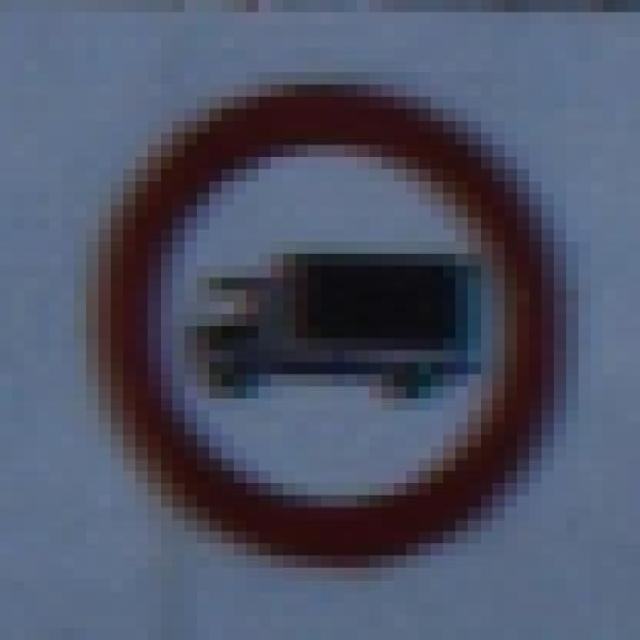Truck traffic is prohibited: (74, 72, 578, 592)
